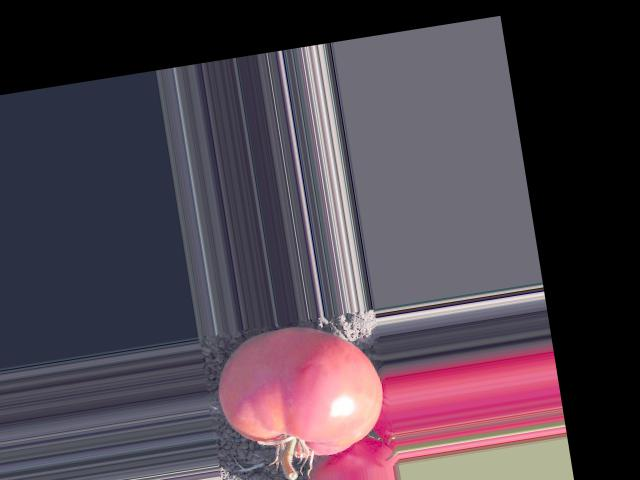tomato: (209, 314, 390, 469)
